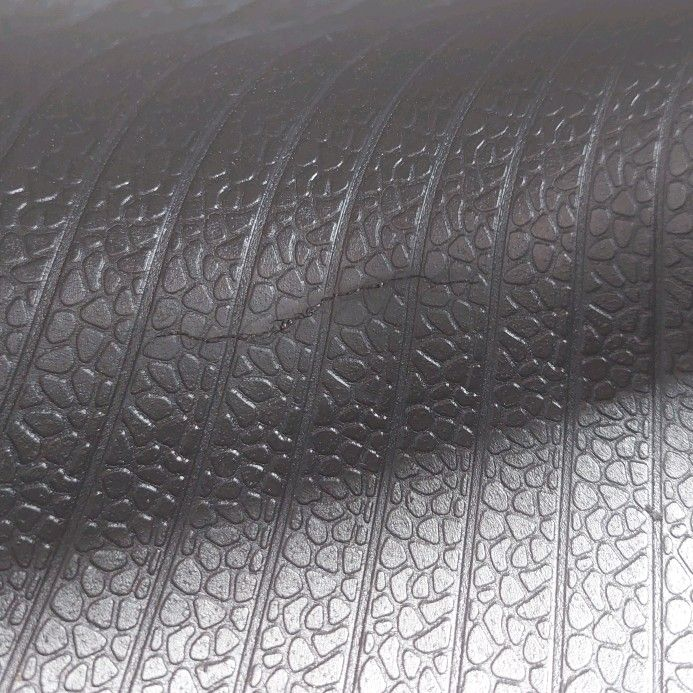CBU: (152, 266, 493, 355)
